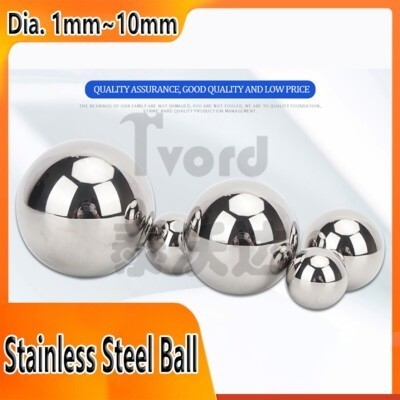ironball: (14, 138, 155, 278), (182, 178, 299, 296), (303, 208, 385, 292), (285, 246, 348, 310), (144, 211, 192, 275)
